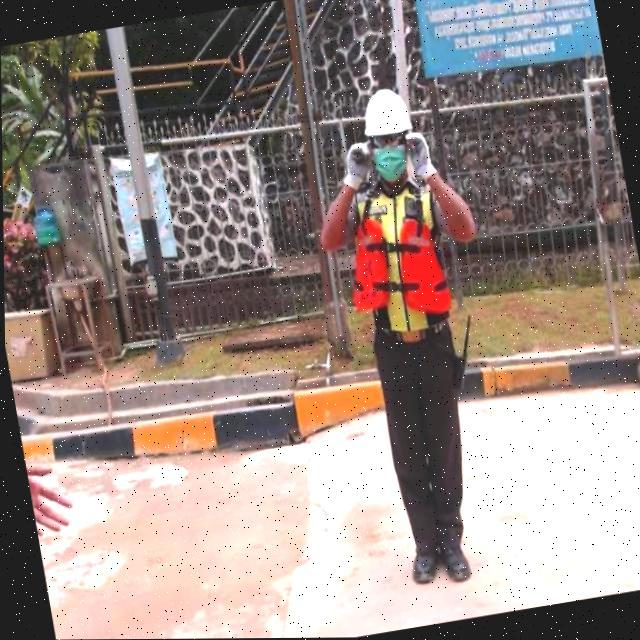goggles_on: (359, 122, 415, 154)
